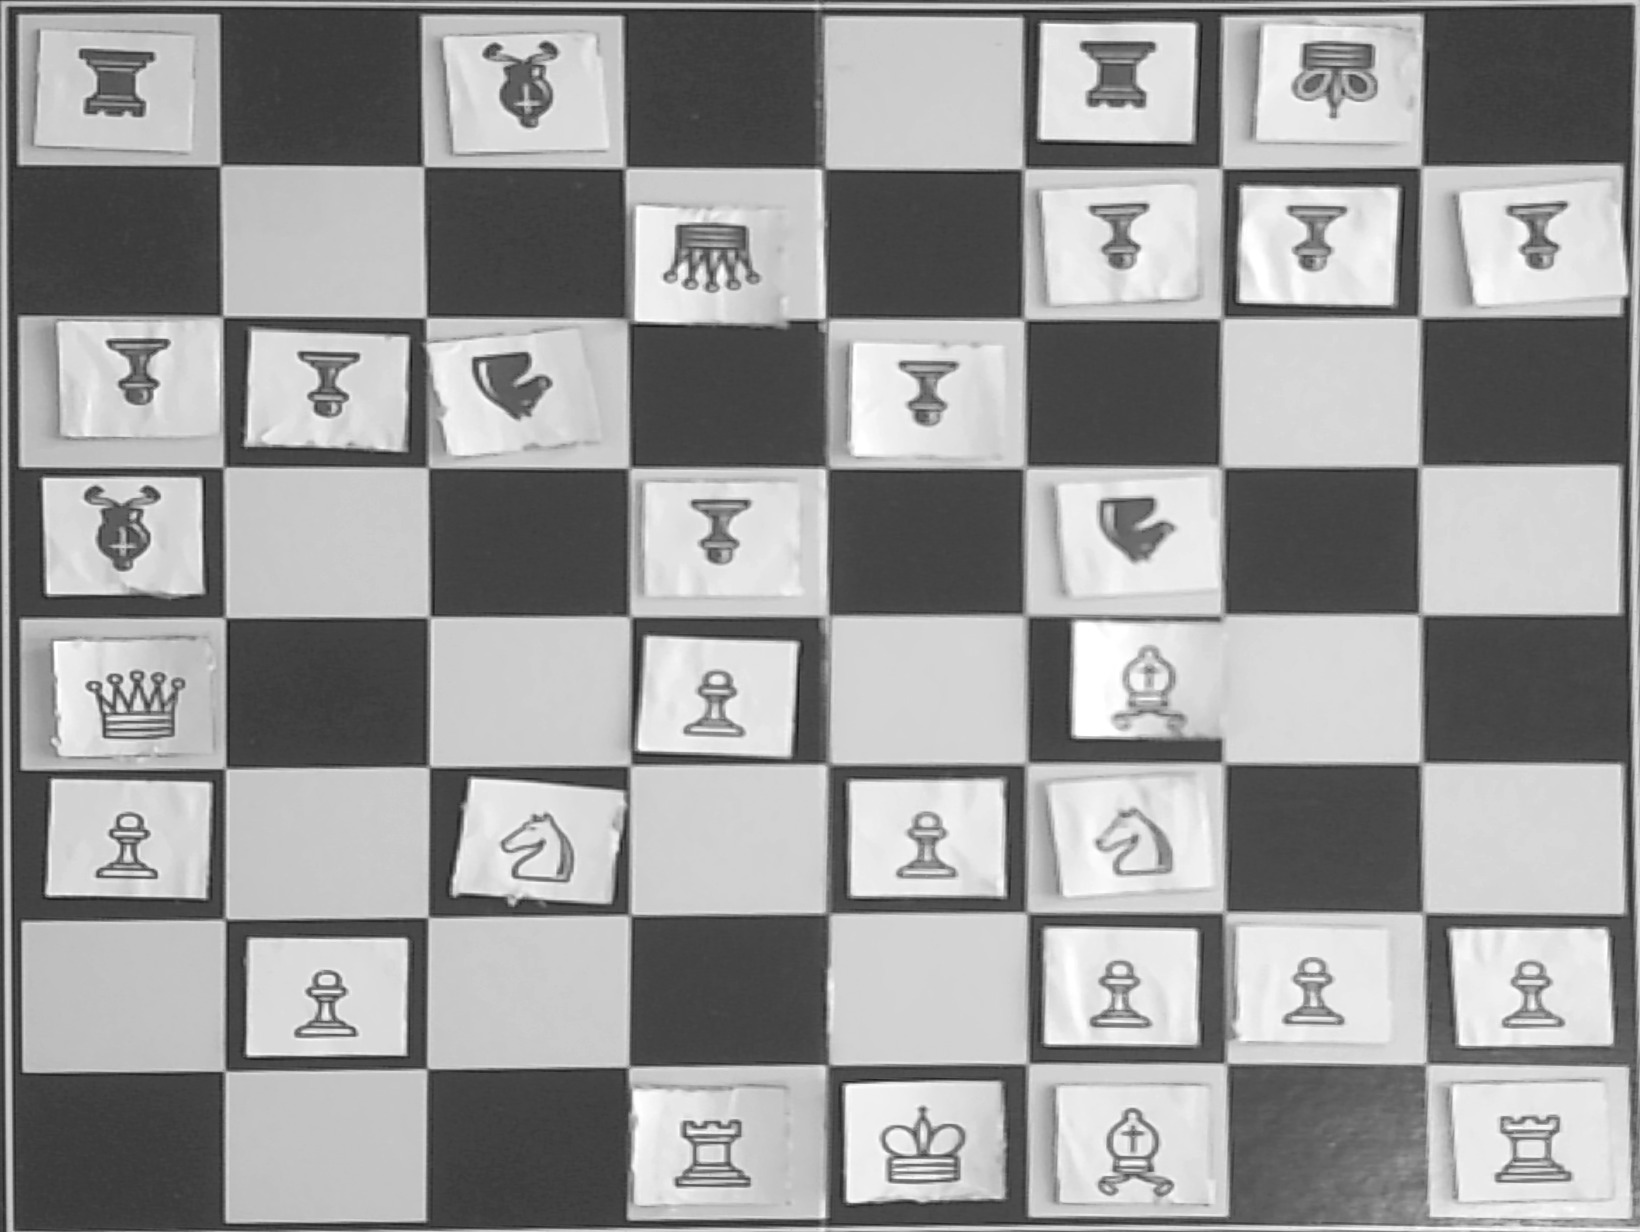b_bishop: (49, 479, 195, 589), (447, 38, 592, 148)
b_king: (1265, 30, 1390, 140)
b_knight: (1067, 481, 1190, 582), (443, 342, 564, 443)
b_pawn: (858, 348, 982, 452), (656, 490, 781, 594)
b_queen: (646, 214, 768, 316)
b_rook: (1045, 23, 1179, 126), (43, 38, 176, 138)
w_bishop: (1067, 1097, 1188, 1202), (1082, 630, 1202, 734)
w_king: (854, 1084, 977, 1194)
w_knight: (1067, 788, 1190, 886), (483, 793, 607, 890)
w_pawn: (1247, 934, 1368, 1034), (1056, 942, 1179, 1040)
w_queen: (60, 647, 192, 745)
w_rook: (654, 1100, 773, 1206), (1470, 1090, 1590, 1194)
